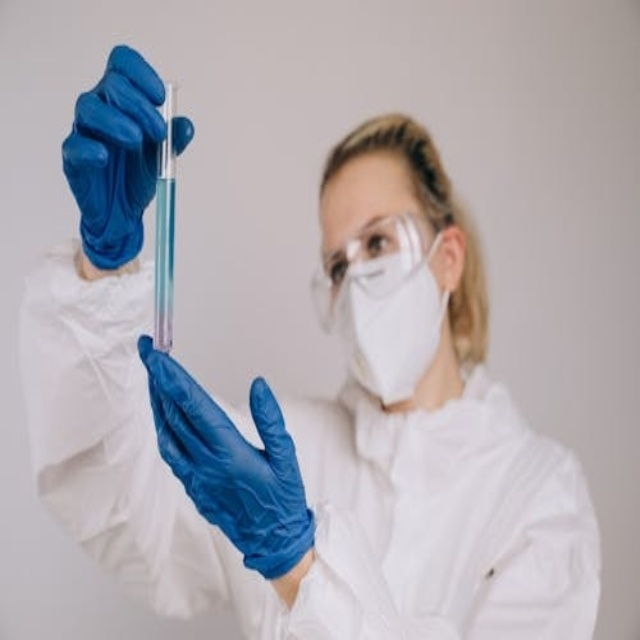Gafas: (308, 204, 444, 327)
Guantes: (140, 340, 315, 578), (61, 44, 193, 274)
Mascara: (321, 217, 451, 404)
